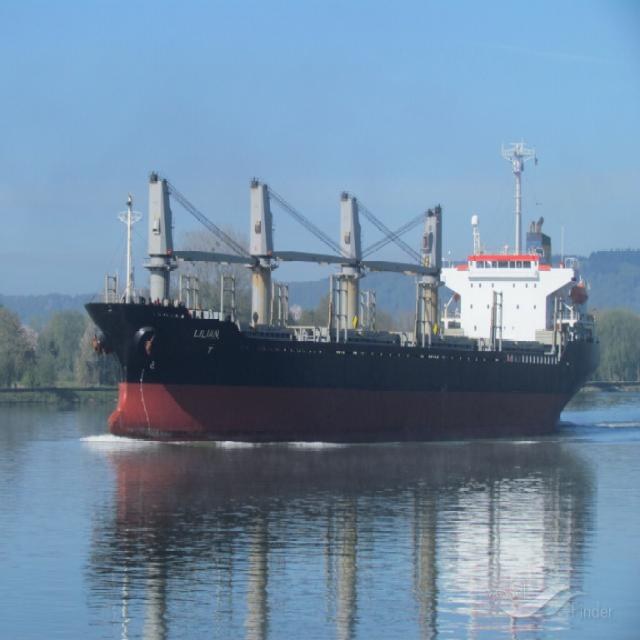OCR: (186, 319, 219, 347)
